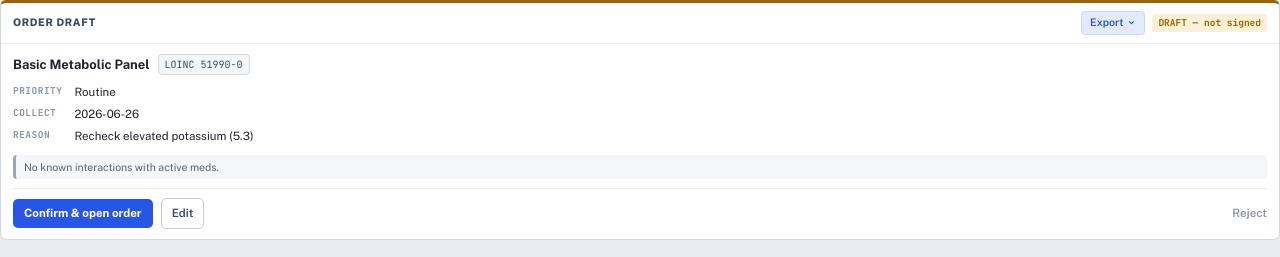
Scenario: DraftOrderCard › offers the shared export menu (print / copy / download)
The image size is (1280, 257).
Step 1. Click the button "Export" → (1113, 23), box [1081,11,1145,35]
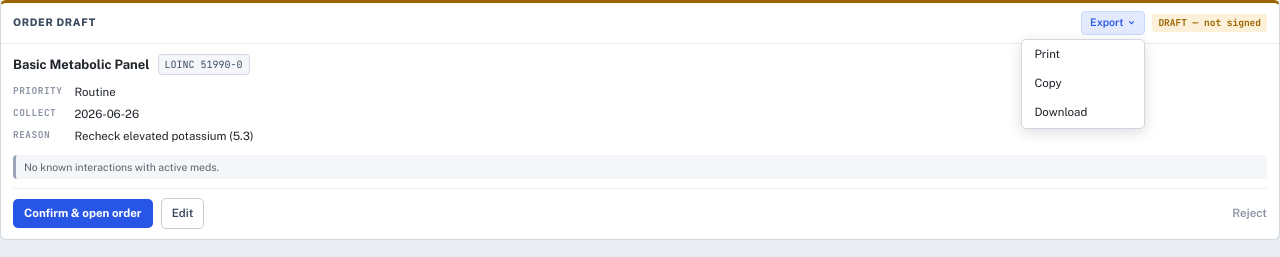
Expected: the menu item "Print" is shown, [1022,40,1144,69]
Expected: the menu item "Copy" is shown, [1022,69,1144,98]
Expected: the menu item "Download" is shown, [1022,98,1144,128]
